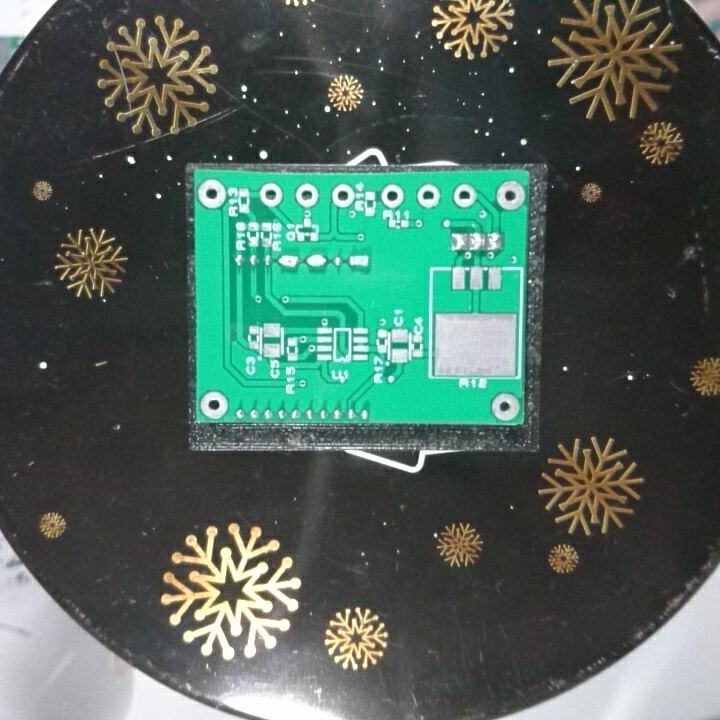F: (194, 176, 228, 209), (493, 179, 527, 212), (489, 392, 521, 423), (198, 389, 230, 420), (414, 180, 444, 212), (451, 180, 479, 212), (379, 180, 405, 212), (293, 181, 322, 209), (328, 181, 357, 209), (257, 180, 284, 207)
P: (275, 251, 301, 272), (344, 252, 371, 272), (304, 251, 328, 273)
